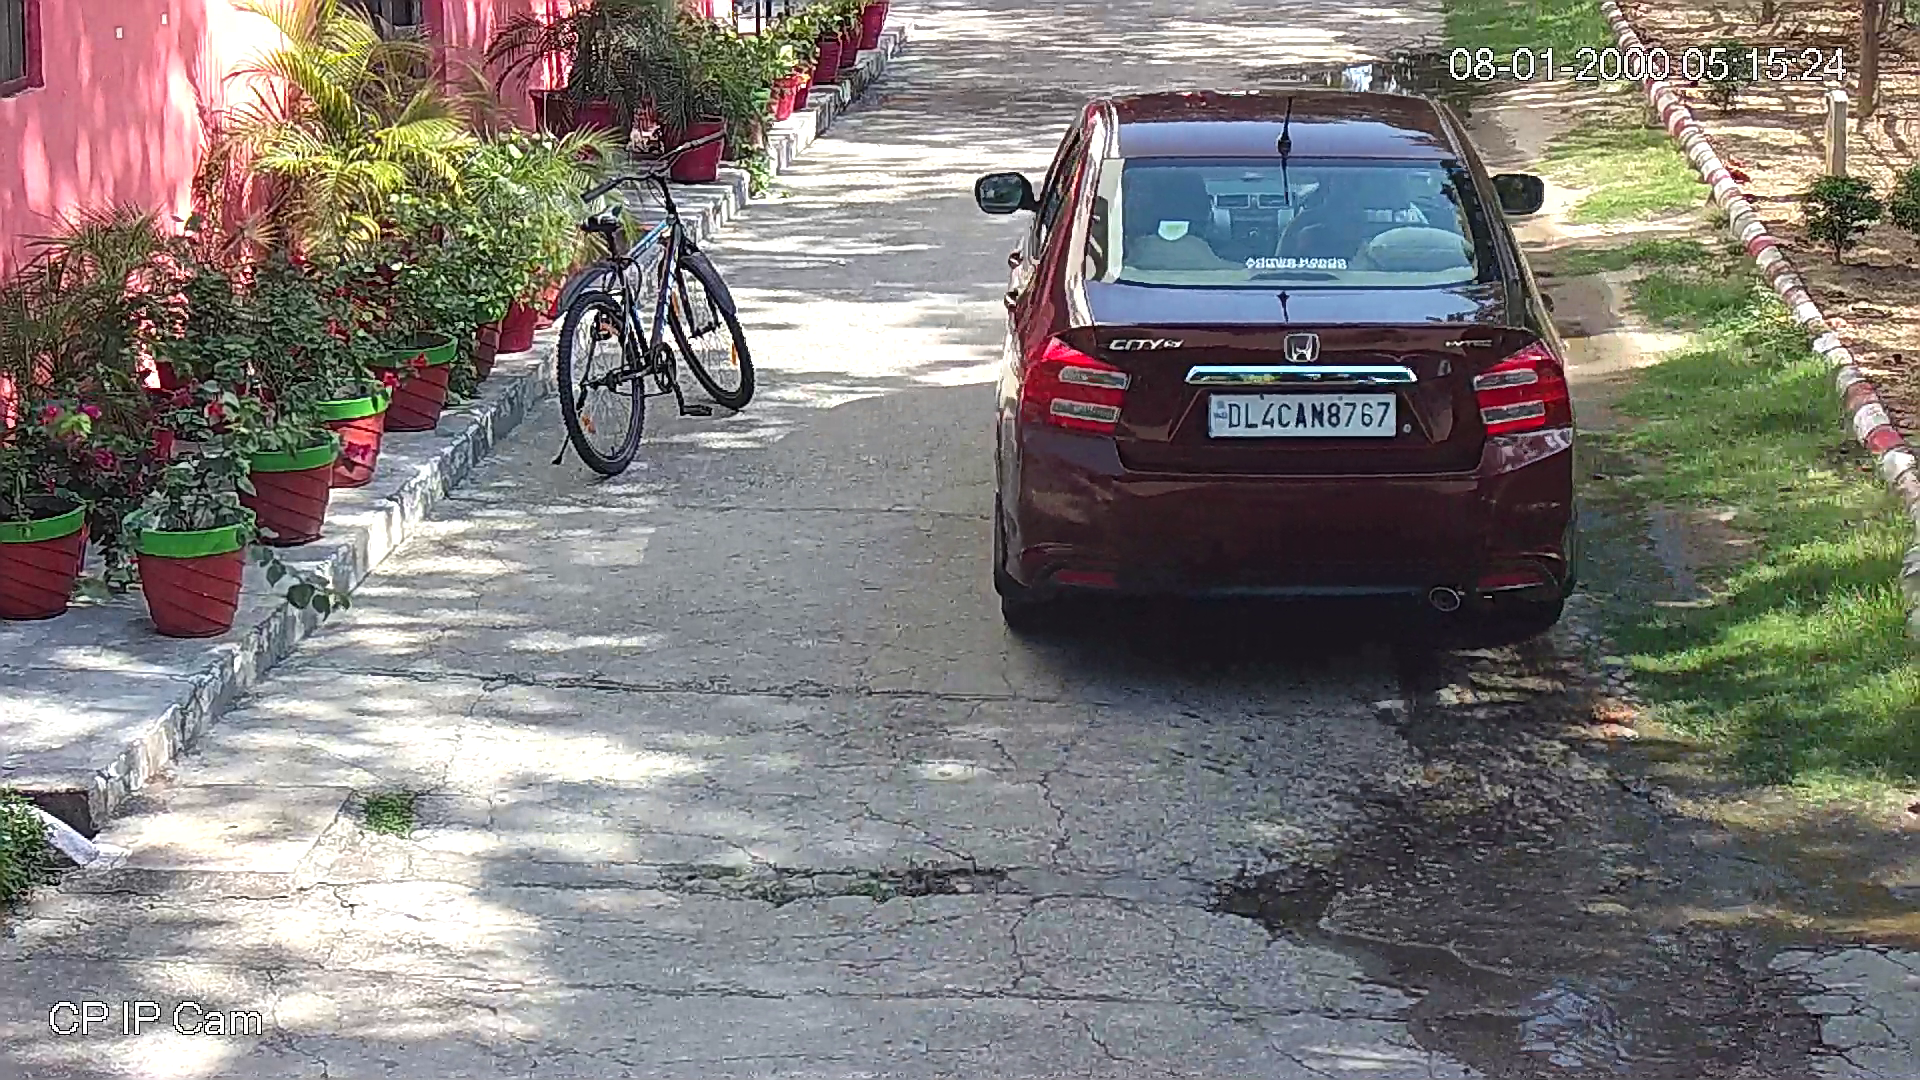plate: (1200, 388, 1406, 449)
